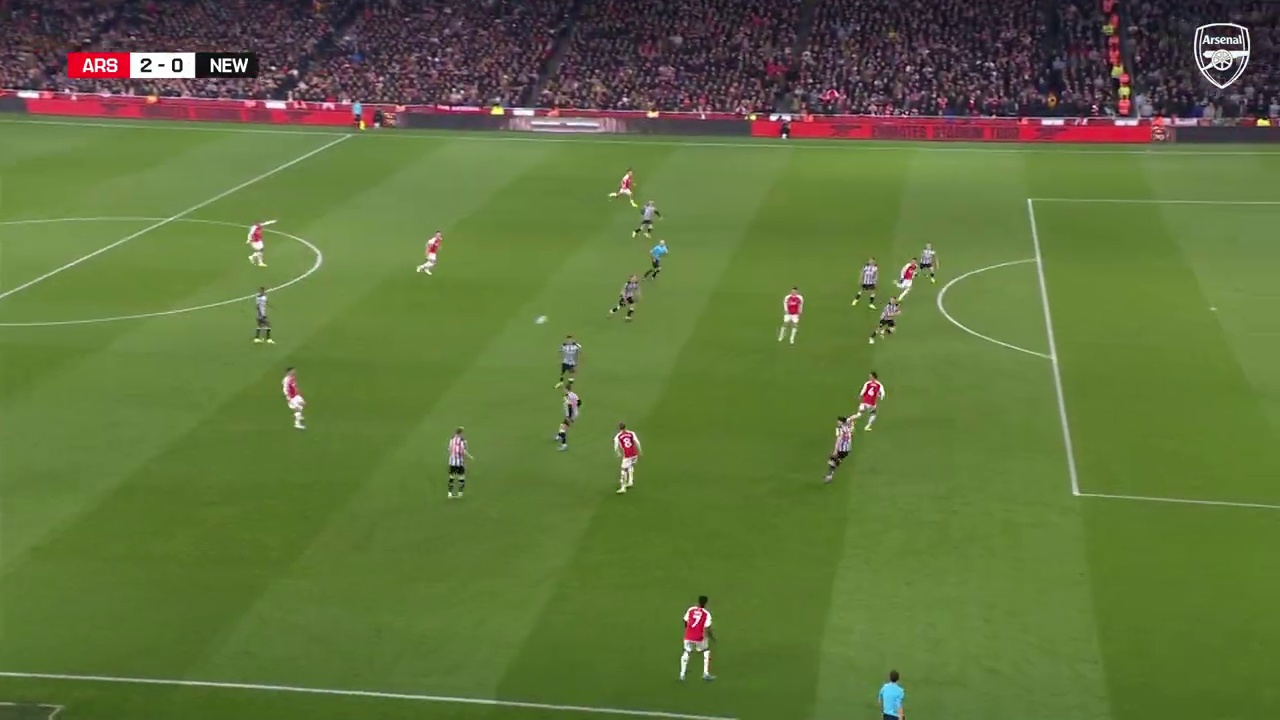ball: (577, 285, 596, 303)
